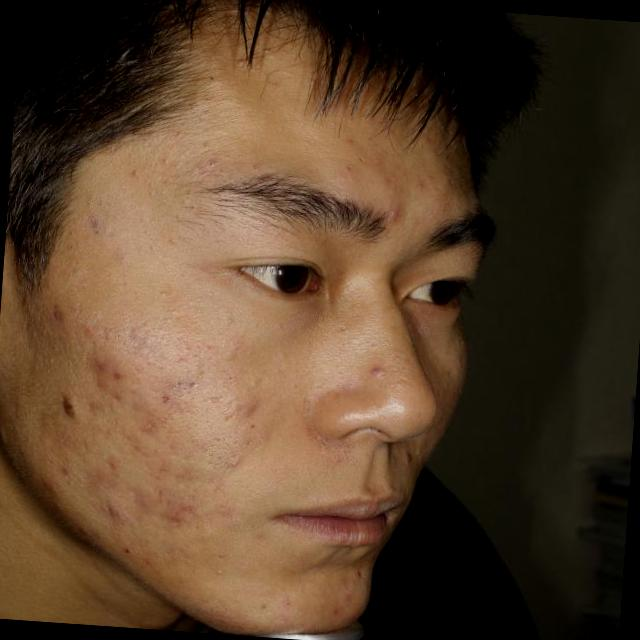acne: (153, 384, 196, 422), (98, 494, 136, 524), (91, 382, 129, 411), (141, 413, 175, 438), (171, 499, 199, 528), (62, 393, 90, 419), (100, 452, 124, 479), (342, 561, 371, 583), (108, 358, 138, 378), (143, 481, 168, 505), (76, 514, 98, 538), (234, 396, 256, 420), (85, 350, 108, 371), (364, 364, 385, 384), (32, 475, 58, 491)
